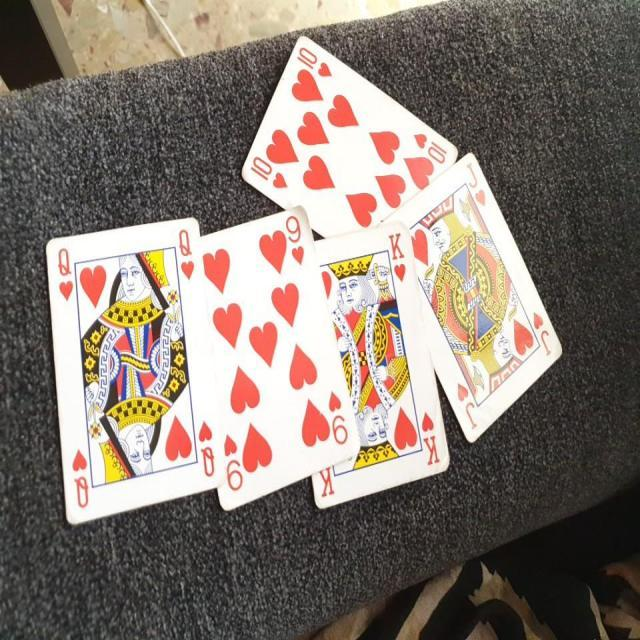10 of hearts: (237, 28, 458, 236)
9 of hearts: (189, 196, 360, 524)
jack of hearts: (397, 144, 572, 454)
king of hearts: (306, 221, 448, 515)
queen of hearts: (34, 209, 224, 539)
